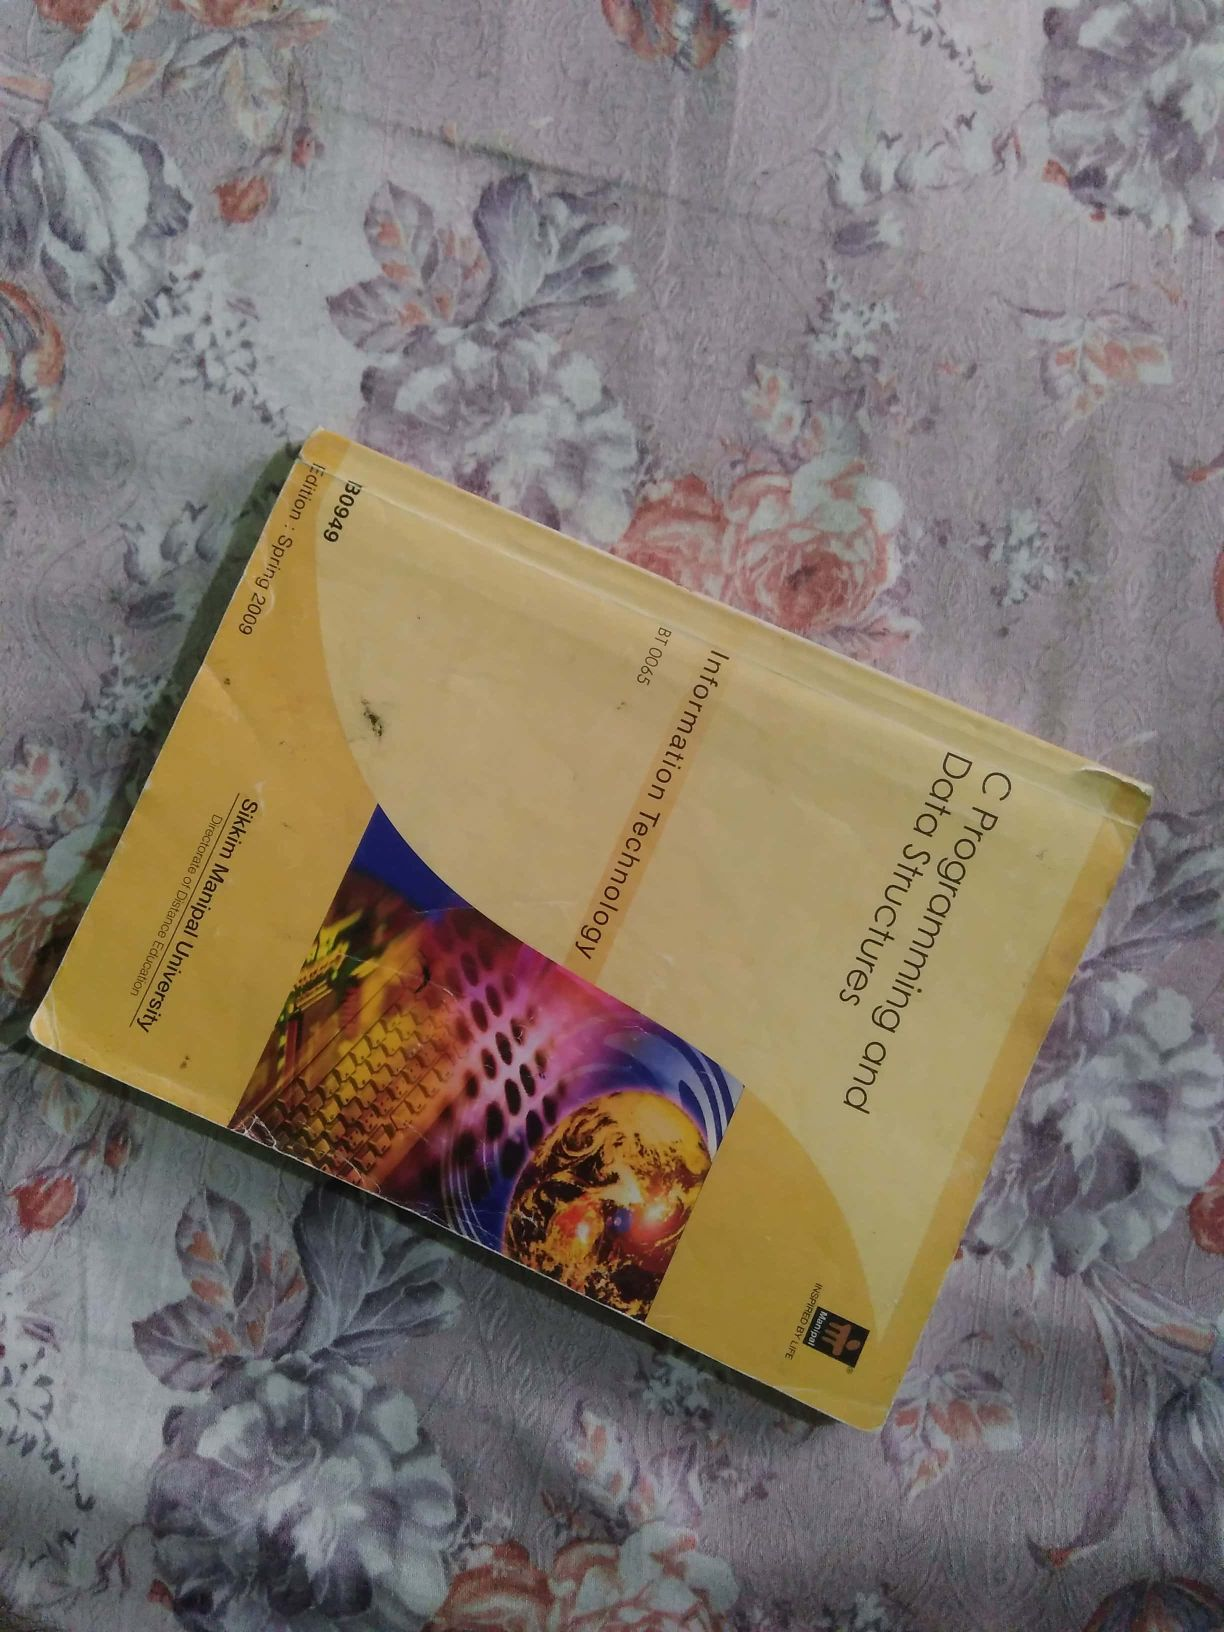clang: (32, 415, 1131, 1435)
